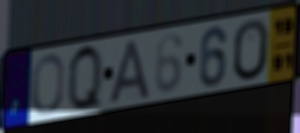6: (154, 31, 185, 97), (197, 24, 228, 89)
A: (108, 38, 153, 105)
O: (232, 17, 270, 83), (30, 52, 66, 117)
Q: (66, 42, 105, 114)
